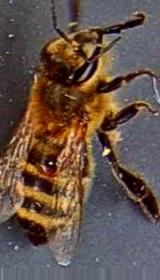varroa_mite: (34, 158, 62, 178)
